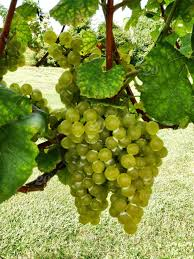grapes: (61, 103, 166, 236)
